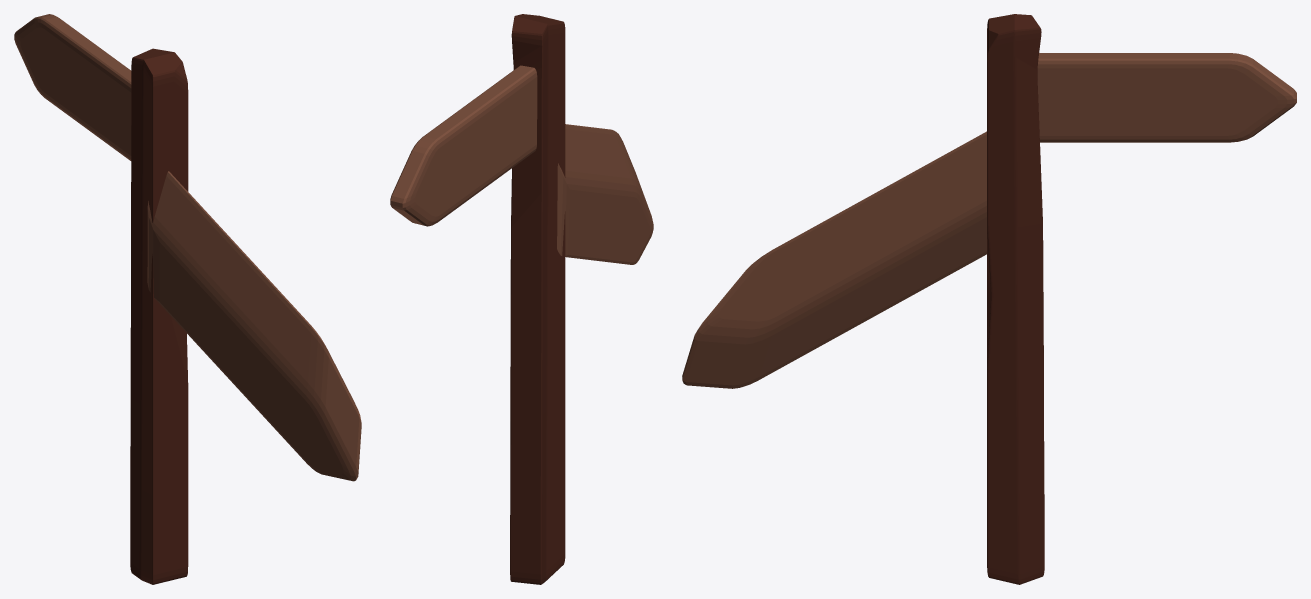
File: DoubleSign.fbx
3 renders of one model, left to right at view 1: azimuth 30°, elevation 25°; view 2: azimuth 150°, elevation 25°; view 3: azimuth 270°, elevation 25°, orthographic. The views are drawn at different scales.
Visible parts, largest first — view 1: Sign.005, Beam.003, Sign.004; view 2: Beam.003, Sign.004, Sign.005; view 3: Sign.005, Beam.003, Sign.004.
Part boxes in pixels (x1,y1,x2,y2): Sign.005: (147,171,361,481); Beam.003: (130,48,188,584); Sign.004: (14,14,131,160); Beam.003: (510,14,565,584); Sign.004: (390,65,537,226); Sign.005: (557,124,653,264); Sign.005: (682,131,986,388); Beam.003: (987,14,1044,584); Sign.004: (1037,53,1296,142).
Bounding box in the file's own units: 0.0517 × 0.0075 × 0.0515.
